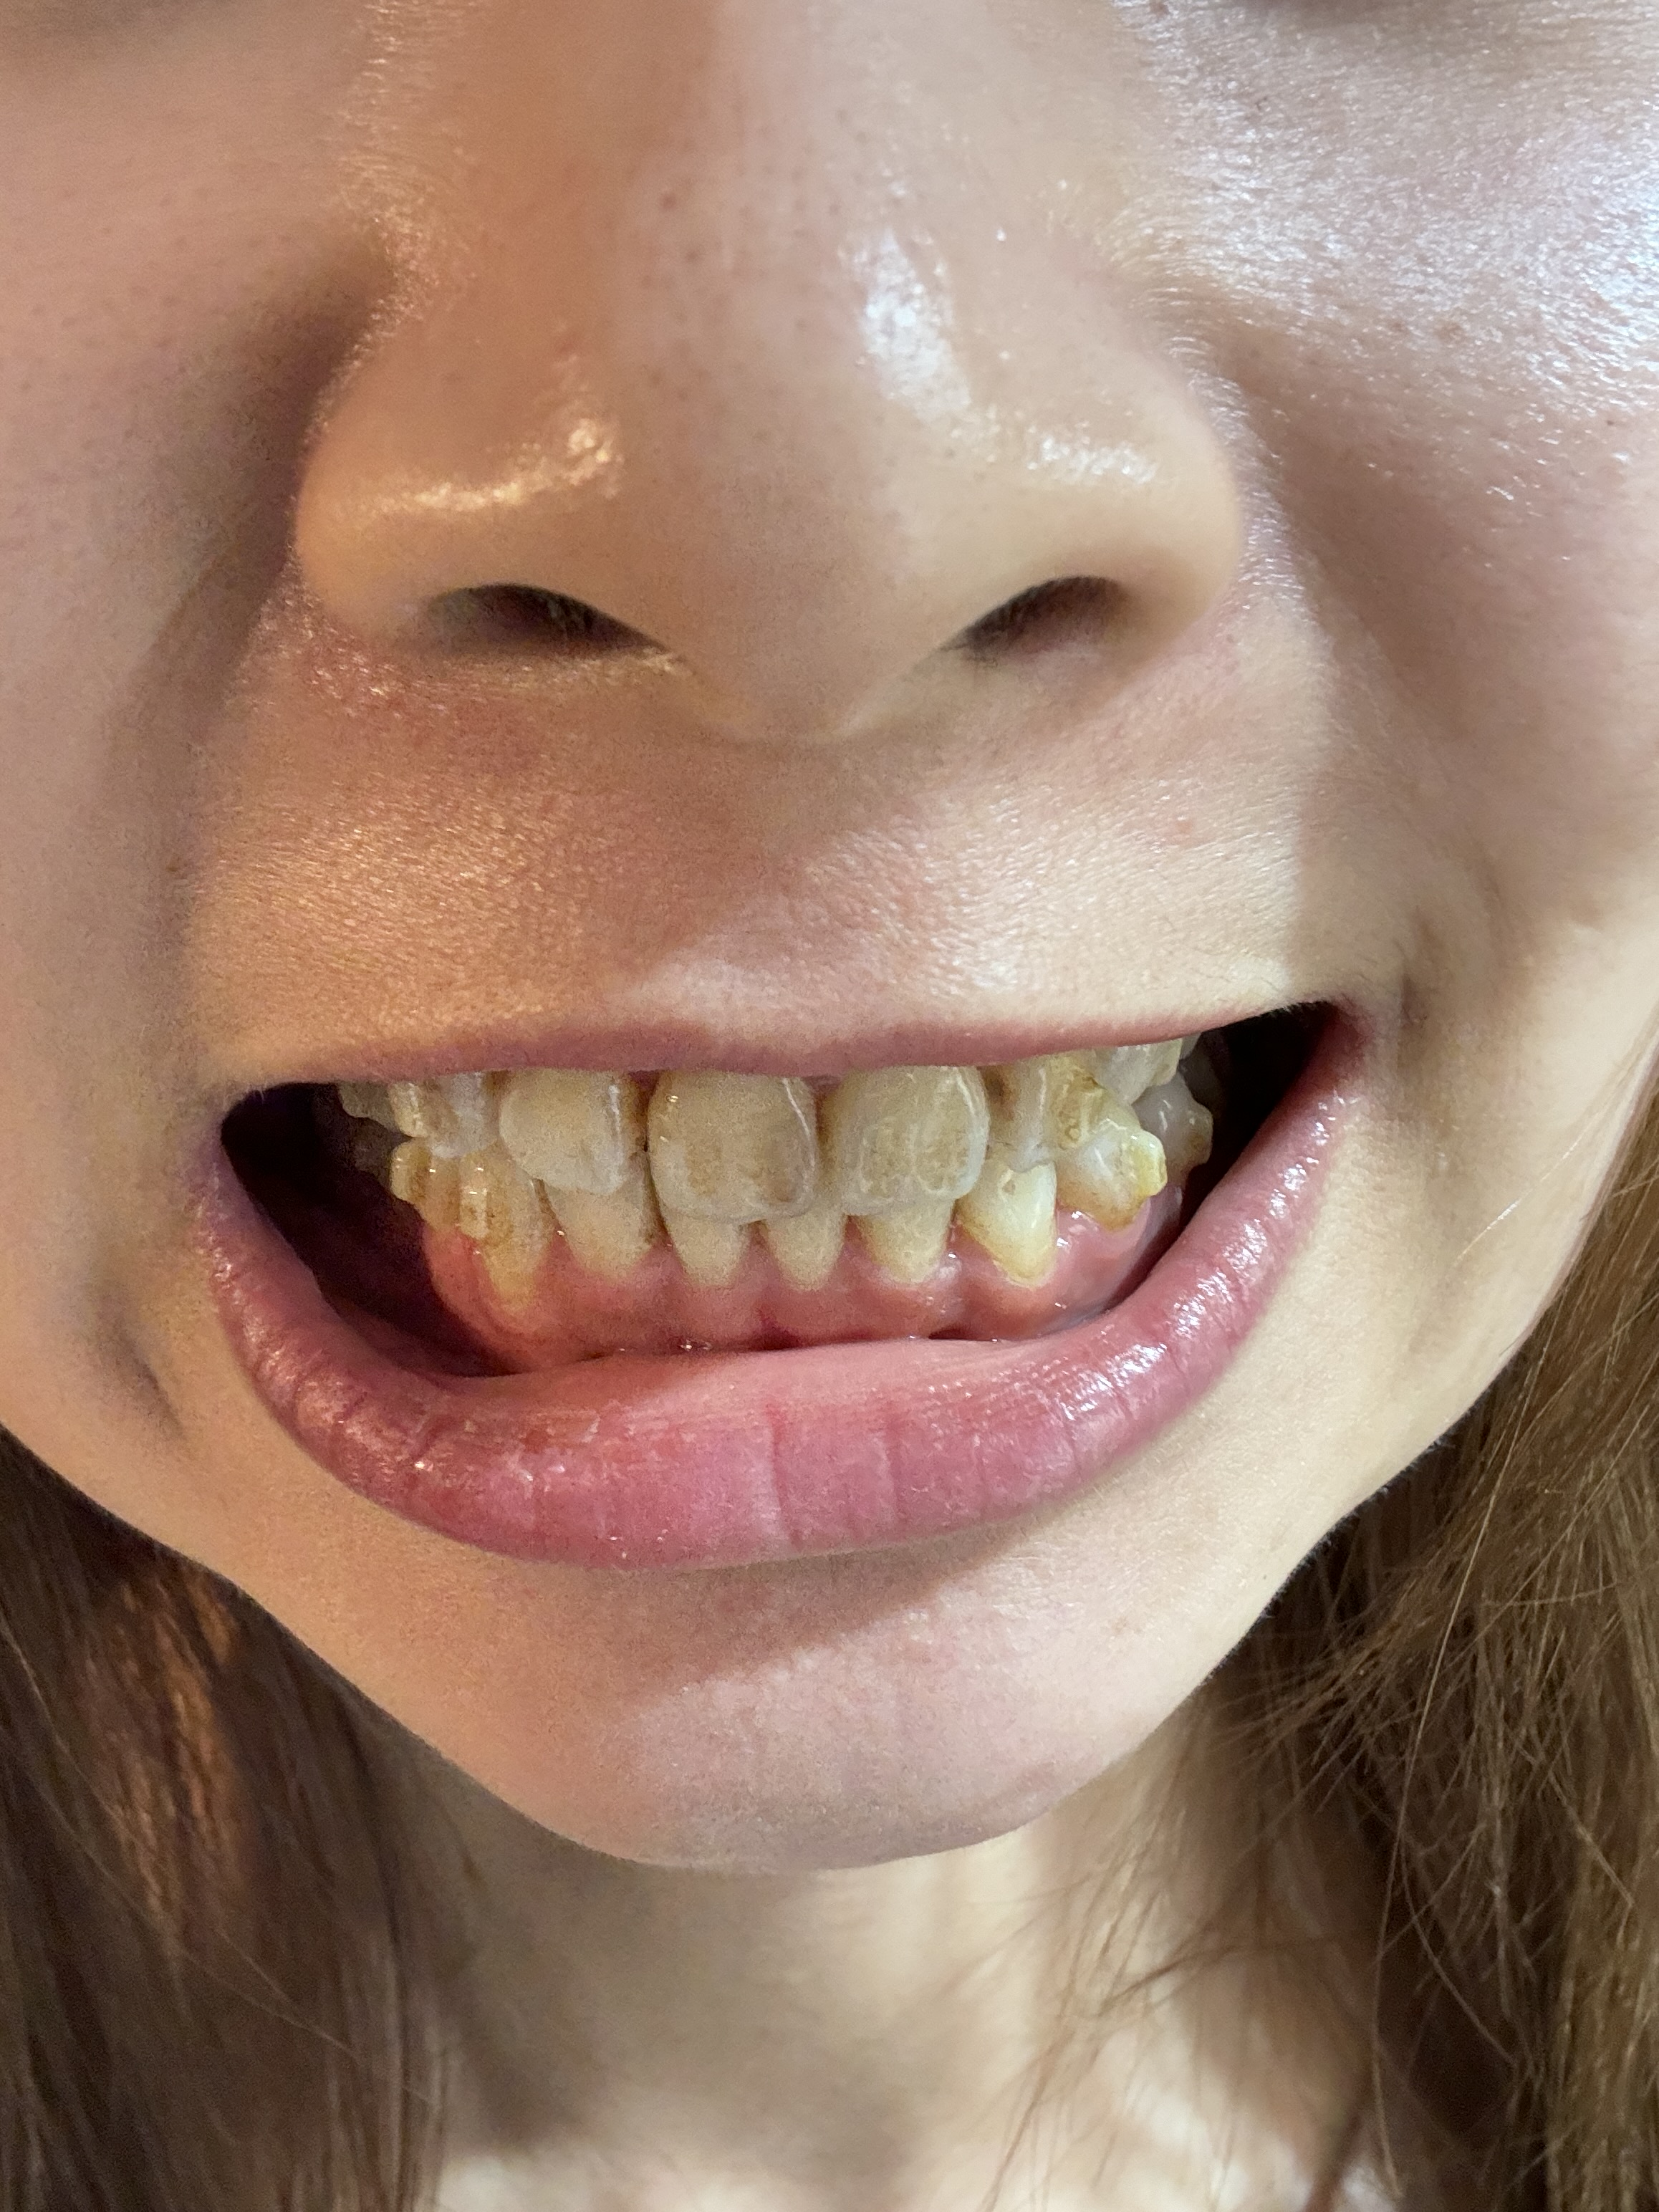teeth: (659, 1075, 803, 1205), (854, 1071, 967, 1202), (505, 1066, 626, 1183), (972, 1169, 1053, 1280), (1019, 1052, 1103, 1158), (549, 1183, 647, 1263), (1065, 1115, 1136, 1214), (786, 1214, 840, 1298), (681, 1216, 735, 1285), (877, 1211, 939, 1266)
